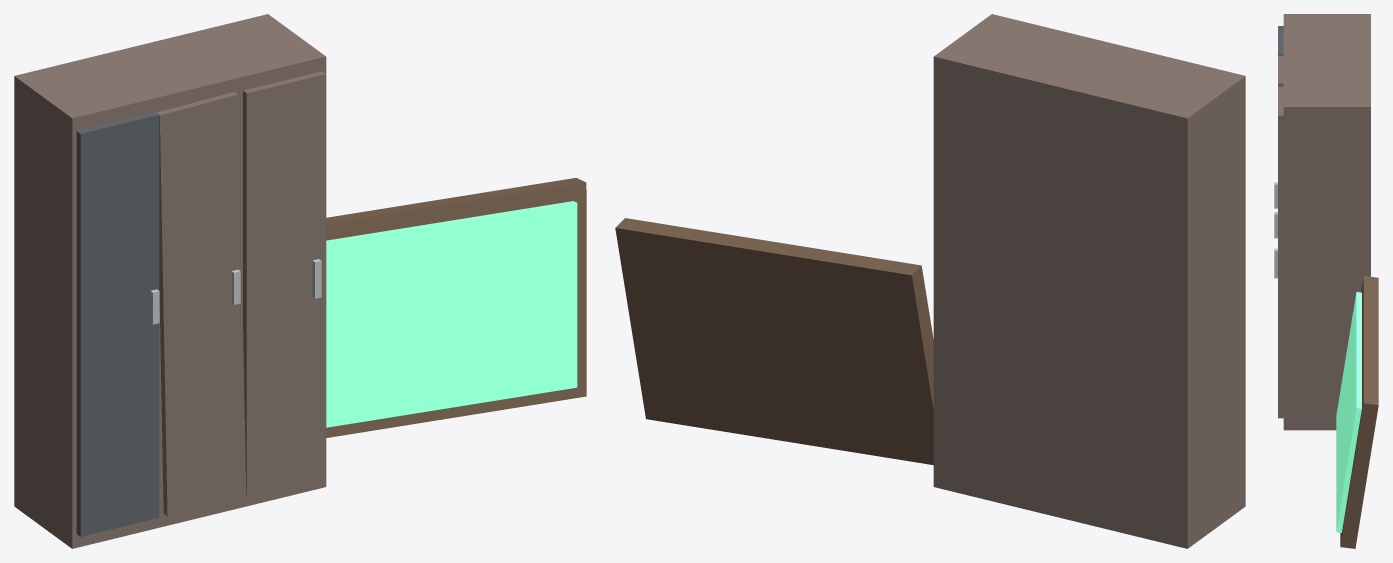
The model's file is sf_dented_locker_set.glb.
3 views of the same model, side by side, from view 1: azimuth 30°, elevation 25°; view 2: azimuth 150°, elevation 25°; view 3: azimuth 270°, elevation 25° (orthographic). The views are drawn at different scales.
Visible parts, largest first — view 1: DentedLockersPure3D_Root, DentedLockersPure3D_Anim; view 2: DentedLockersPure3D_Root; view 3: DentedLockersPure3D_Root, DentedLockersPure3D_Anim.
Boxes of the visible parts, <box> form: DentedLockersPure3D_Root: <box>14,14,586,548</box>; DentedLockersPure3D_Anim: <box>243,71,325,496</box>; DentedLockersPure3D_Root: <box>615,14,1245,548</box>; DentedLockersPure3D_Root: <box>1274,14,1378,548</box>; DentedLockersPure3D_Anim: <box>1274,87,1283,418</box>.
Size of the model in its own units: 2.59 by 1.93 by 0.551.
